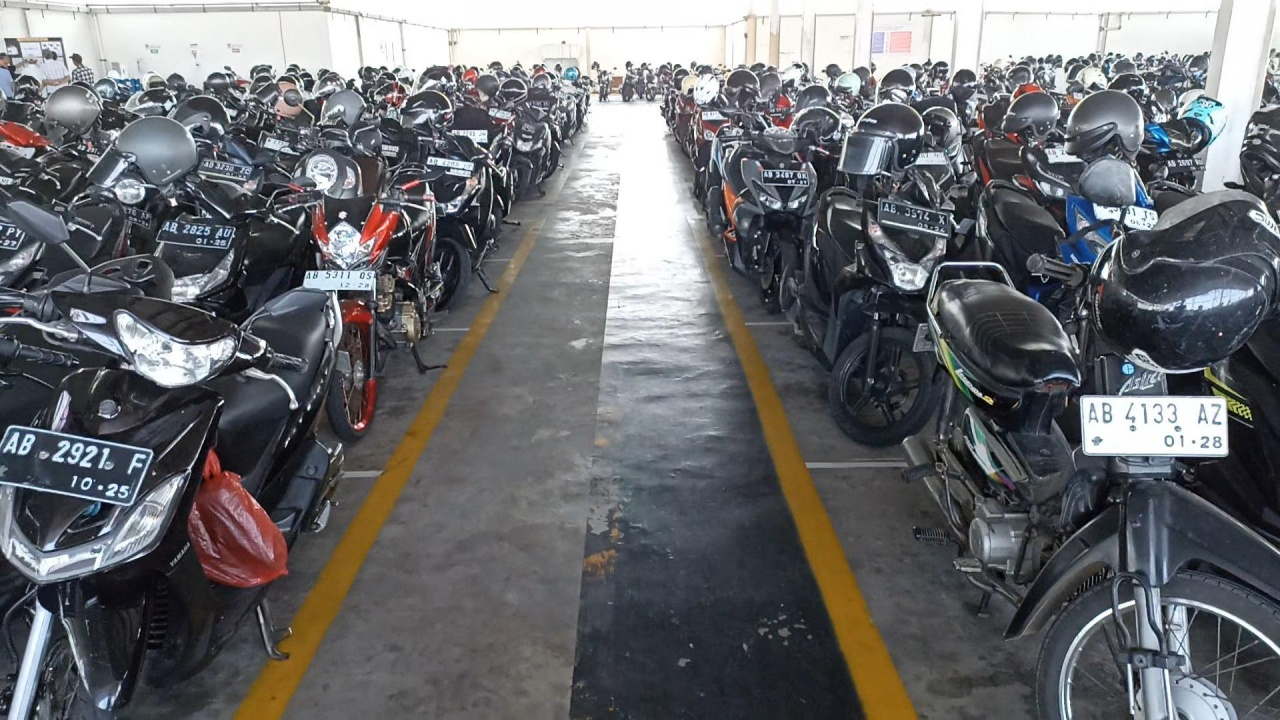plate: (0, 423, 155, 506), (1081, 395, 1229, 457), (880, 199, 949, 238), (156, 219, 235, 249), (303, 271, 375, 290), (762, 170, 809, 186)
